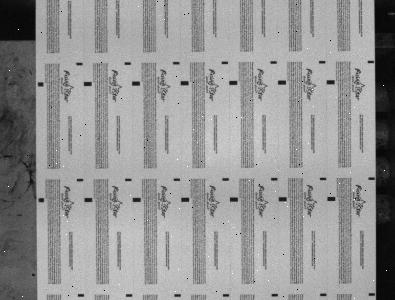incorrect qblock: (38, 82, 44, 86), (38, 198, 44, 202)
qblock: (132, 197, 141, 202), (181, 197, 190, 202), (327, 196, 336, 201), (83, 81, 92, 86), (84, 197, 92, 202), (132, 81, 140, 86), (278, 80, 286, 85), (229, 80, 237, 85), (230, 197, 239, 201), (326, 80, 335, 84), (180, 81, 189, 85), (279, 197, 287, 201)
smallqblock: (173, 61, 180, 65), (222, 177, 229, 181), (126, 293, 132, 297), (173, 178, 181, 181), (367, 60, 375, 63), (368, 177, 376, 180), (174, 294, 181, 297), (76, 62, 83, 65), (223, 293, 230, 296), (320, 293, 327, 296), (77, 293, 84, 296), (271, 293, 278, 296), (124, 62, 131, 65), (319, 61, 326, 64), (270, 61, 277, 64), (221, 61, 228, 64), (76, 178, 83, 181), (125, 178, 132, 181), (320, 177, 327, 180), (271, 177, 278, 180), (369, 293, 375, 296)
